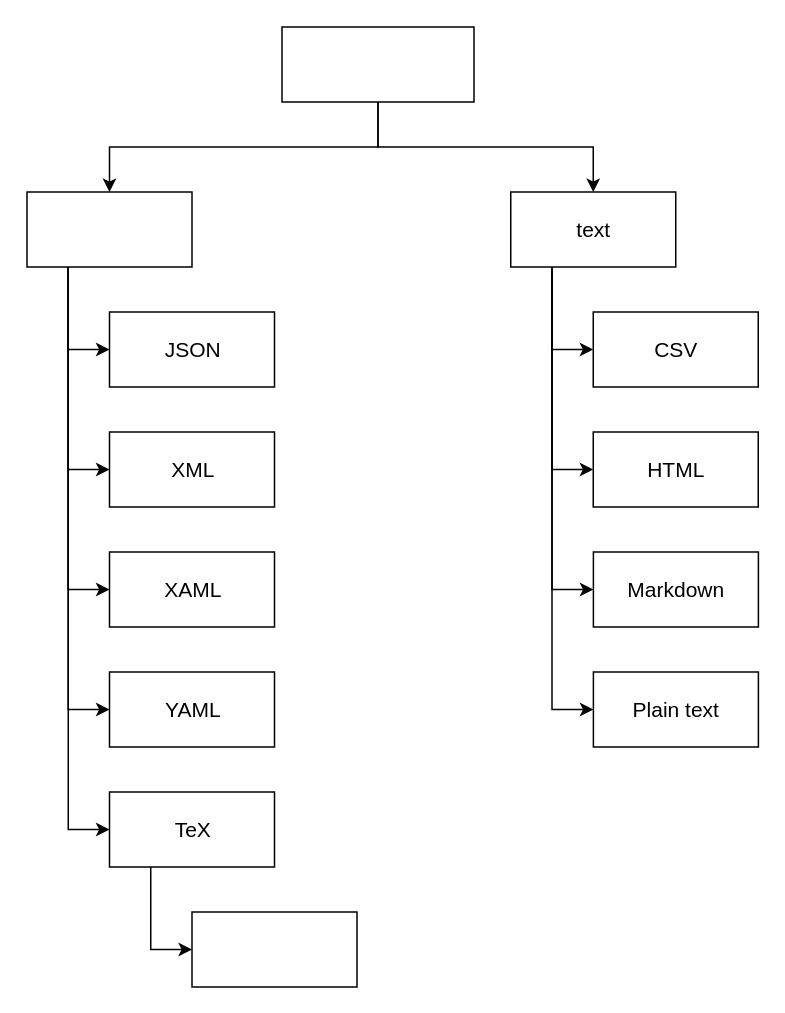
The diagram is 785 pixels wide and 1013 high, and some of its shapes have lost their labels. The shapes that lost their labels are listed below. From the top down, each one's centre as x and y in pixels, then its label:
At pixel 377 64: "Markup langs".
At pixel 109 228: "application".
At pixel 273 948: "LaTeX".
